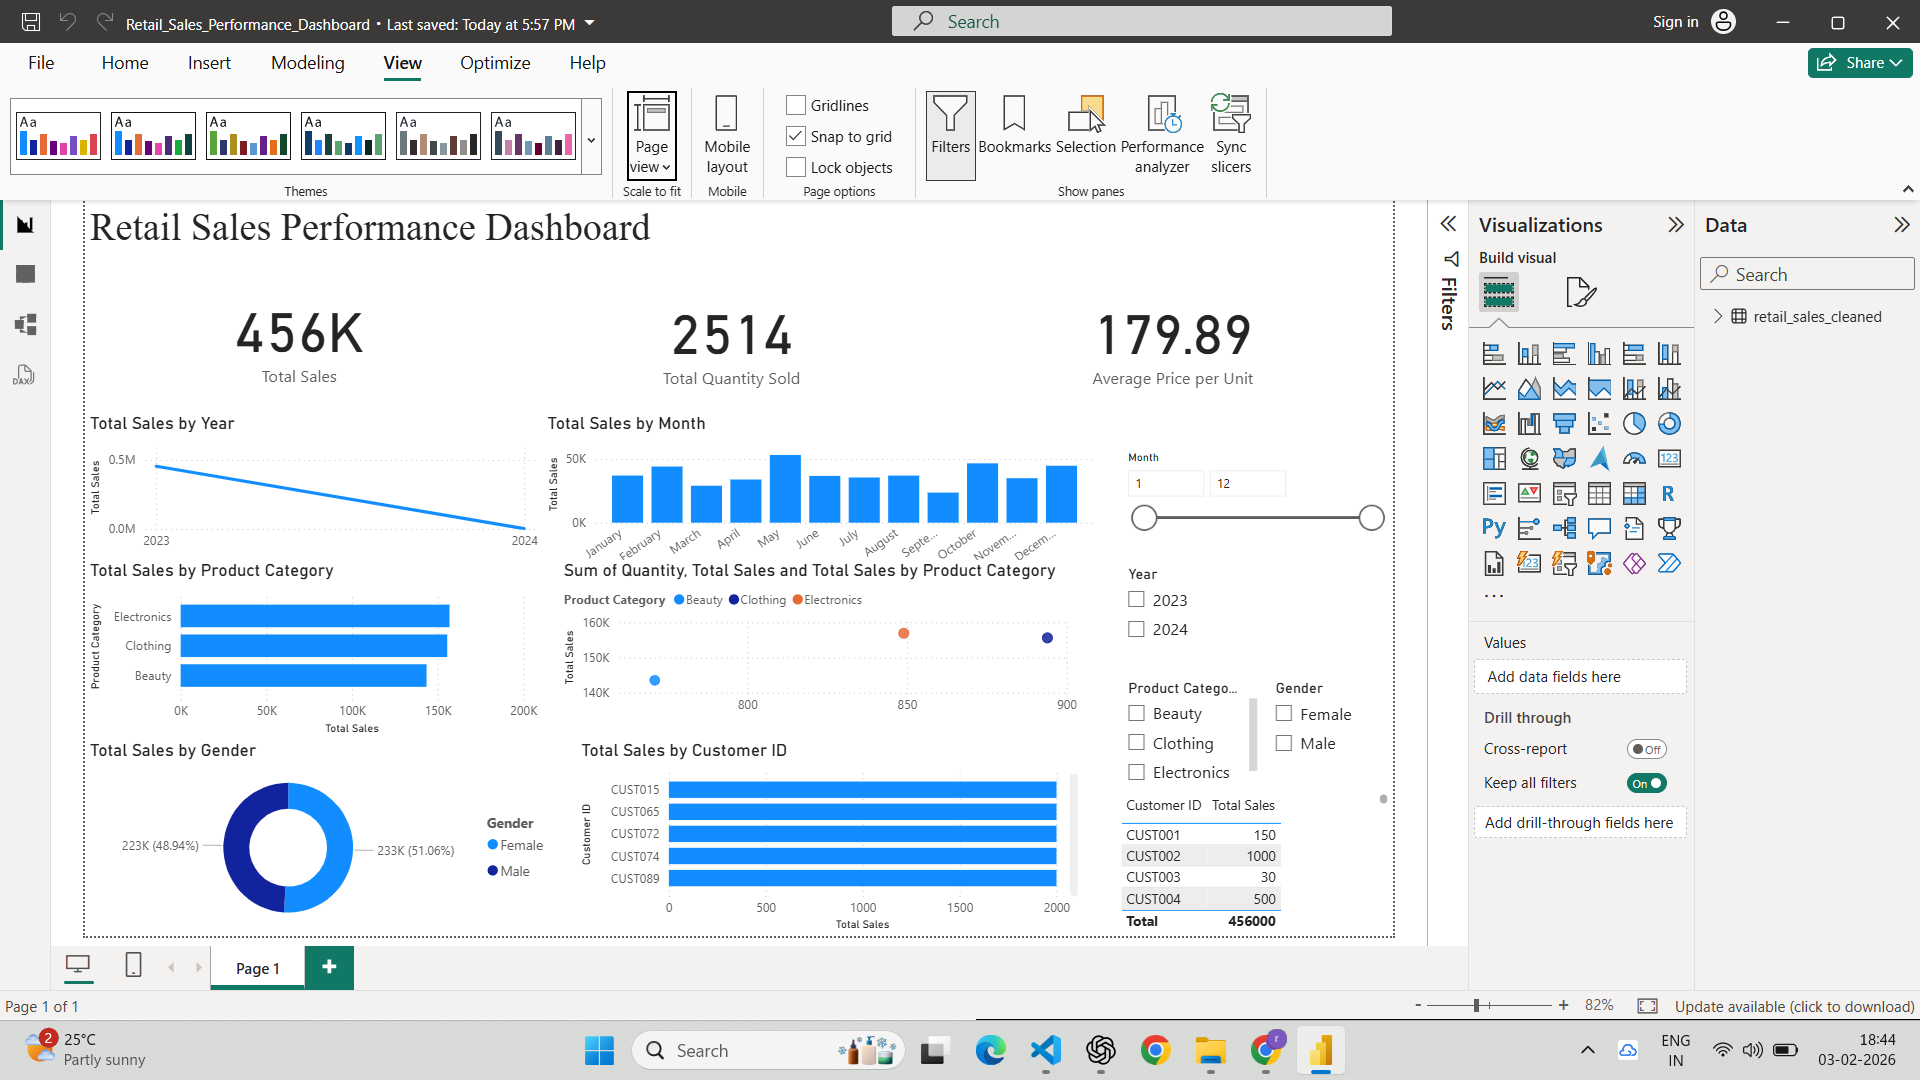

What the dashboard file says about the page in this screenshot:
{"tool":"powerbi","page":{"name":"Page 1","canvas":[1280,720],"ordinal":0},"visuals":[{"type":"card","fields":{"Values":["retail_sales_cleaned.Total Sales"]},"box":[0,80,419.7,108.9],"z":0,"group":"g1"},{"type":"lineChart","fields":{"Category":["retail_sales_cleaned.Date.Variation.Date Hierarchy.Year","retail_sales_cleaned.Date.Variation.Date Hierarchy.Quarter","retail_sales_cleaned.Date.Variation.Date Hierarchy.Month","retail_sales_cleaned.Date.Variation.Date Hierarchy.Day"],"Y":["retail_sales_cleaned.Total Sales"]},"box":[0,208,448,144],"z":0},{"type":"card","fields":{"Values":["retail_sales_cleaned.Total Quantity Sold"]},"box":[416.7,80,431.7,112],"z":1000,"group":"g1"},{"type":"barChart","fields":{"Category":["retail_sales_cleaned.Product Category"],"Y":["retail_sales_cleaned.Total Sales"]},"box":[0,352,448,176],"z":1000},{"type":"card","fields":{"Values":["retail_sales_cleaned.Average Price per Unit"]},"box":[848.3,80,431.7,112],"z":2000,"group":"g1"},{"type":"columnChart","fields":{"Category":["retail_sales_cleaned.Date.Variation.Date Hierarchy.Month"],"Y":["retail_sales_cleaned.Total Sales"]},"box":[448,208,544,160],"z":2000},{"type":"donutChart","fields":{"Category":["retail_sales_cleaned.Gender"],"Y":["retail_sales_cleaned.Total Sales"]},"box":[0,528,464,192],"z":3000},{"type":"tableEx","fields":{"Values":["retail_sales_cleaned.Customer ID","retail_sales_cleaned.Total Sales"]},"box":[1008,576,272,144],"z":4000,"group":"g2"},{"type":"scatterChart","fields":{"X":["Sum(retail_sales_cleaned.Quantity)"],"Y":["retail_sales_cleaned.Total Sales"],"Series":["retail_sales_cleaned.Product Category"],"Size":["retail_sales_cleaned.Total Sales"]},"box":[464,352,512,160],"z":5000},{"type":"group","id":"g1","title":"Group 1","box":[0,80,1280,112],"z":6000},{"type":"slicer","fields":{"Values":["retail_sales_cleaned.Gender"]},"box":[1152,464,128,112],"z":7000,"group":"g2"},{"type":"slicer","fields":{"Values":["retail_sales_cleaned.Year"]},"box":[1008,352,272,112],"z":8000,"group":"g2"},{"type":"slicer","fields":{"Values":["retail_sales_cleaned.Month"]},"box":[1008,240,272,112],"z":9000,"group":"g2"},{"type":"slicer","fields":{"Values":["retail_sales_cleaned.Product Category"]},"box":[1008,464,144,112],"z":10000,"group":"g2"},{"type":"clusteredBarChart","fields":{"Category":["retail_sales_cleaned.Customer ID"],"Y":["retail_sales_cleaned.Total Sales"]},"box":[480,528,496,192],"z":11000},{"type":"textbox","box":[0,0,576,80],"z":12000},{"type":"group","id":"g2","title":"Group 2","box":[1008,240,272,480],"z":12001}]}

Visuals, with their boxes on the page's 1280x720 design canvas (x1, y1, x2, y2). These are canvas units, not pixel positions in the 1920x1080 screenshot, which may show the page scaled, cropped or inside an application window:
card - retail_sales_cleaned.Total Sales: Rect(0, 80, 420, 189)
lineChart - retail_sales_cleaned.Date.Variation.Date Hierarchy.Year x retail_sales_cleaned.Date.Variation.Date Hierarchy.Quarter: Rect(0, 208, 448, 352)
card - retail_sales_cleaned.Total Quantity Sold: Rect(417, 80, 848, 192)
barChart - retail_sales_cleaned.Product Category x retail_sales_cleaned.Total Sales: Rect(0, 352, 448, 528)
card - retail_sales_cleaned.Average Price per Unit: Rect(848, 80, 1280, 192)
columnChart - retail_sales_cleaned.Date.Variation.Date Hierarchy.Month x retail_sales_cleaned.Total Sales: Rect(448, 208, 992, 368)
donutChart - retail_sales_cleaned.Gender x retail_sales_cleaned.Total Sales: Rect(0, 528, 464, 720)
tableEx - retail_sales_cleaned.Customer ID x retail_sales_cleaned.Total Sales: Rect(1008, 576, 1280, 720)
scatterChart - Sum(retail_sales_cleaned.Quantity) x retail_sales_cleaned.Total Sales: Rect(464, 352, 976, 512)
"Group 1" group: Rect(0, 80, 1280, 192)
slicer - retail_sales_cleaned.Gender: Rect(1152, 464, 1280, 576)
slicer - retail_sales_cleaned.Year: Rect(1008, 352, 1280, 464)
slicer - retail_sales_cleaned.Month: Rect(1008, 240, 1280, 352)
slicer - retail_sales_cleaned.Product Category: Rect(1008, 464, 1152, 576)
clusteredBarChart - retail_sales_cleaned.Customer ID x retail_sales_cleaned.Total Sales: Rect(480, 528, 976, 720)
textbox: Rect(0, 0, 576, 80)
"Group 2" group: Rect(1008, 240, 1280, 720)
